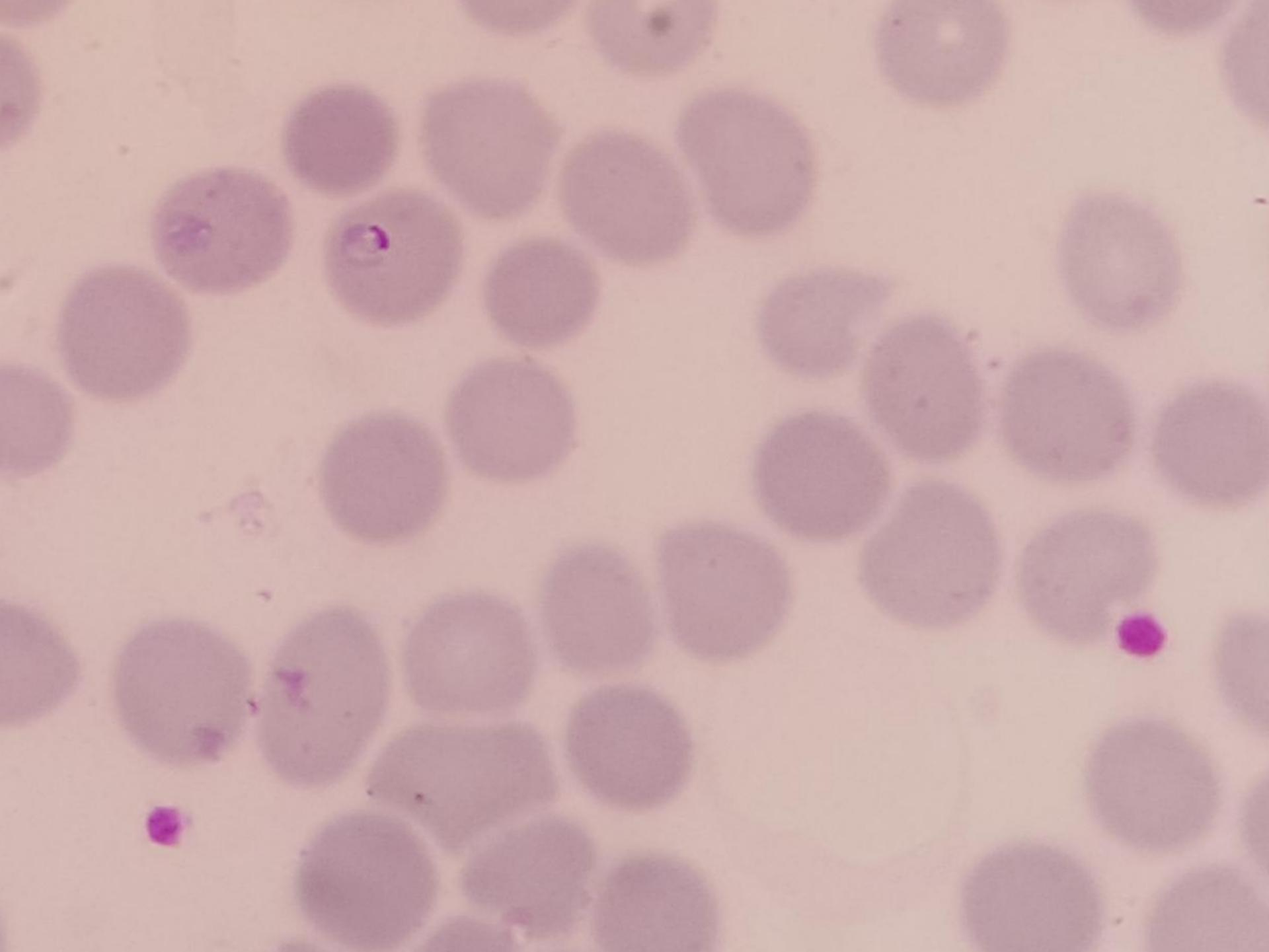Infected: (322, 191, 467, 325)
Uninfected: (267, 607, 388, 788), (864, 479, 1003, 626), (654, 522, 798, 659), (296, 810, 442, 944), (117, 618, 248, 767), (681, 92, 815, 234), (421, 80, 557, 217), (1016, 509, 1154, 644), (58, 265, 190, 401), (866, 316, 987, 463), (757, 411, 890, 544), (563, 132, 693, 266), (157, 167, 293, 294), (458, 819, 597, 940), (1061, 187, 1180, 328), (1086, 720, 1213, 852), (1001, 350, 1127, 483), (402, 592, 533, 719), (316, 417, 449, 540), (758, 258, 889, 377), (962, 843, 1103, 952), (568, 682, 692, 805), (543, 541, 658, 668), (449, 362, 573, 479), (875, 1, 1005, 111), (279, 80, 400, 192), (1155, 384, 1269, 499), (482, 238, 601, 347), (587, 853, 717, 952)
